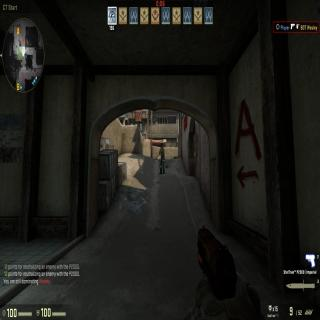T-Body: (158, 142, 166, 174)
T-Head: (159, 143, 163, 149)
